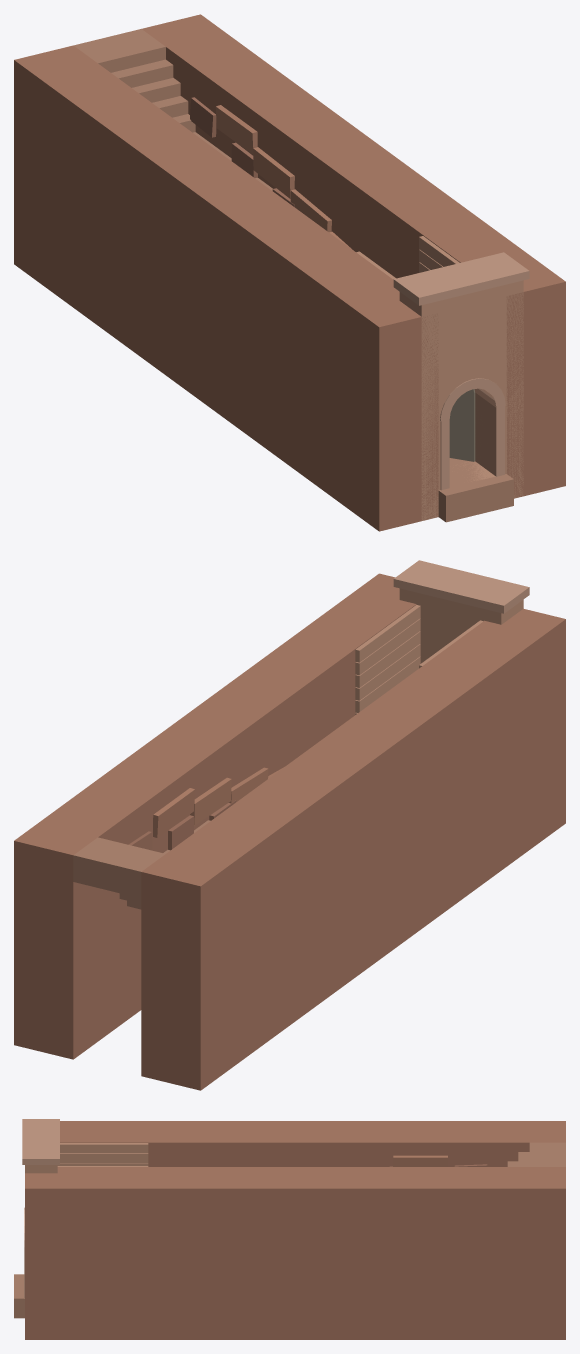
File: sally-port.glb
The picture shows the model from 3 angles, top to bottom: view 1: azimuth 30°, elevation 25°; view 2: azimuth 150°, elevation 25°; view 3: azimuth 270°, elevation 25°; orthographic projection. The views are drawn at different scales.
Visible parts, largest first — view 1: rock-side-right, rock-side-left, door-wall, wall-coping, landing-bottom, landing-top, doorway-arch, door-leaf, rock-ledges-left-a.02, rock-ledge-left-a-01, flight-1-step-01, flight-1.02 (+2 smaller); view 2: rock-side-right, rock-side-left, wall-coping, landing-top, door-wall, rock-ledge-left-a-01, facing-left.14, rock-ledges-left-a.02, facing-left.13, facing-left.11, facing-left.12, facing-left.10; view 3: rock-side-left, rock-side-right, wall-coping, facing-left.14, landing-top, facing-left.13, rock-ledge-left-a-01, landing-bottom, door-wall.
Boxes of the visible parts, box(x1,y1,x2,y2) form: rock-side-right: box(14, 45, 438, 531); rock-side-left: box(141, 14, 565, 498); door-wall: box(399, 280, 523, 520); wall-coping: box(393, 252, 529, 305); landing-bottom: box(438, 458, 513, 522); landing-top: box(74, 29, 165, 72); doorway-arch: box(440, 378, 505, 490); door-leaf: box(449, 389, 475, 461); rock-ledges-left-a.02: box(253, 147, 294, 198); rock-ledge-left-a-01: box(215, 105, 257, 154); flight-1-step-01: box(111, 59, 173, 87); flight-1.02: box(132, 77, 180, 102); rock-side-right: box(141, 608, 565, 1090); rock-side-left: box(14, 573, 416, 1059); wall-coping: box(393, 560, 529, 613); landing-top: box(73, 837, 165, 898); door-wall: box(399, 588, 523, 663); rock-ledge-left-a-01: box(153, 788, 194, 837); facing-left.14: box(355, 605, 420, 662); rock-ledges-left-a.02: box(190, 777, 231, 825); facing-left.13: box(355, 618, 420, 675); facing-left.11: box(355, 644, 420, 700); facing-left.12: box(355, 631, 420, 687); facing-left.10: box(355, 656, 420, 712); rock-side-left: box(25, 1167, 565, 1339); rock-side-right: box(60, 1121, 565, 1166); wall-coping: box(22, 1119, 59, 1164); facing-left.14: box(60, 1143, 148, 1153); landing-top: box(529, 1142, 565, 1166); facing-left.13: box(60, 1153, 148, 1162); rock-ledge-left-a-01: box(393, 1155, 447, 1166); landing-bottom: box(14, 1274, 24, 1318); door-wall: box(25, 1165, 57, 1173).
Bounding box in the file's own units: 4.4 × 5.08 × 15.2.
